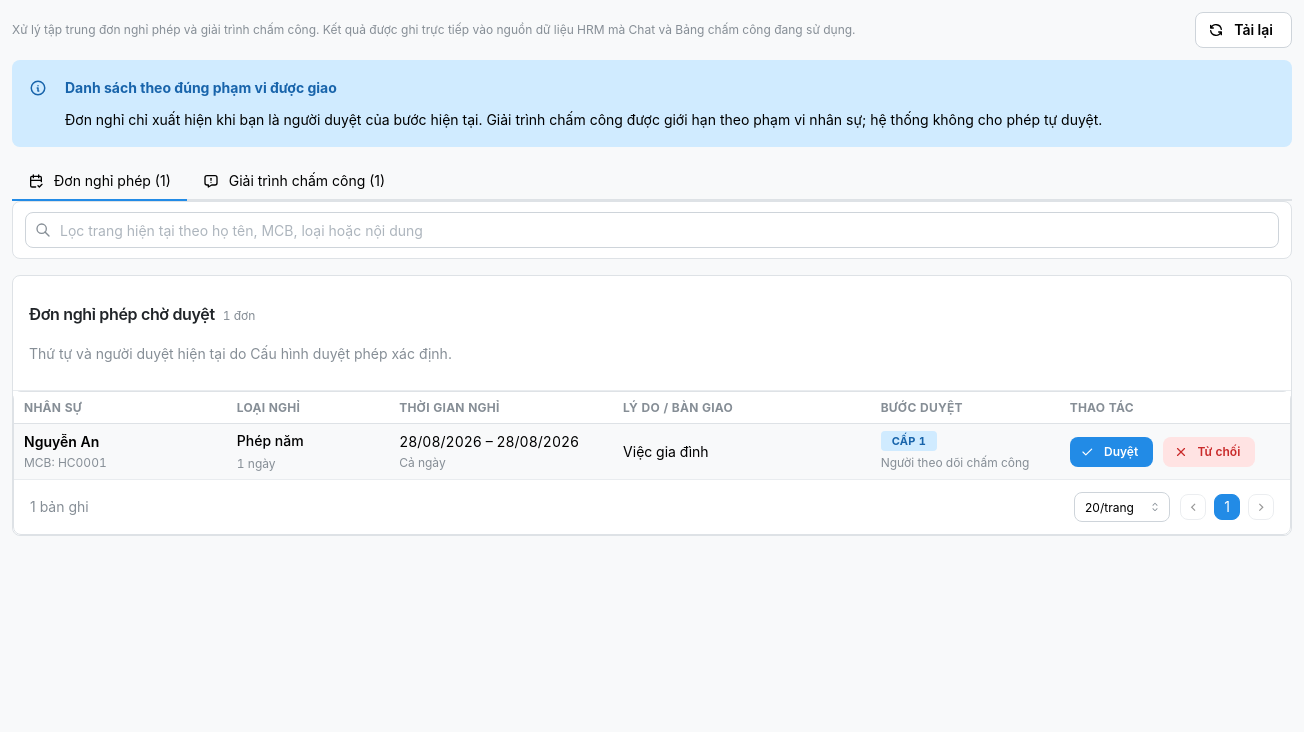
Test: ApprovalInboxPage › shows both canonical approval queues in one HRM screen
Check: the text "Nguyễn An" is shown, box [24, 433, 99, 450]
Check: the text "MCB: HC0001" is shown, box [24, 455, 107, 470]
Click the tab "Giải trình chấm công (1)" at (294, 182), box [187, 163, 401, 201]
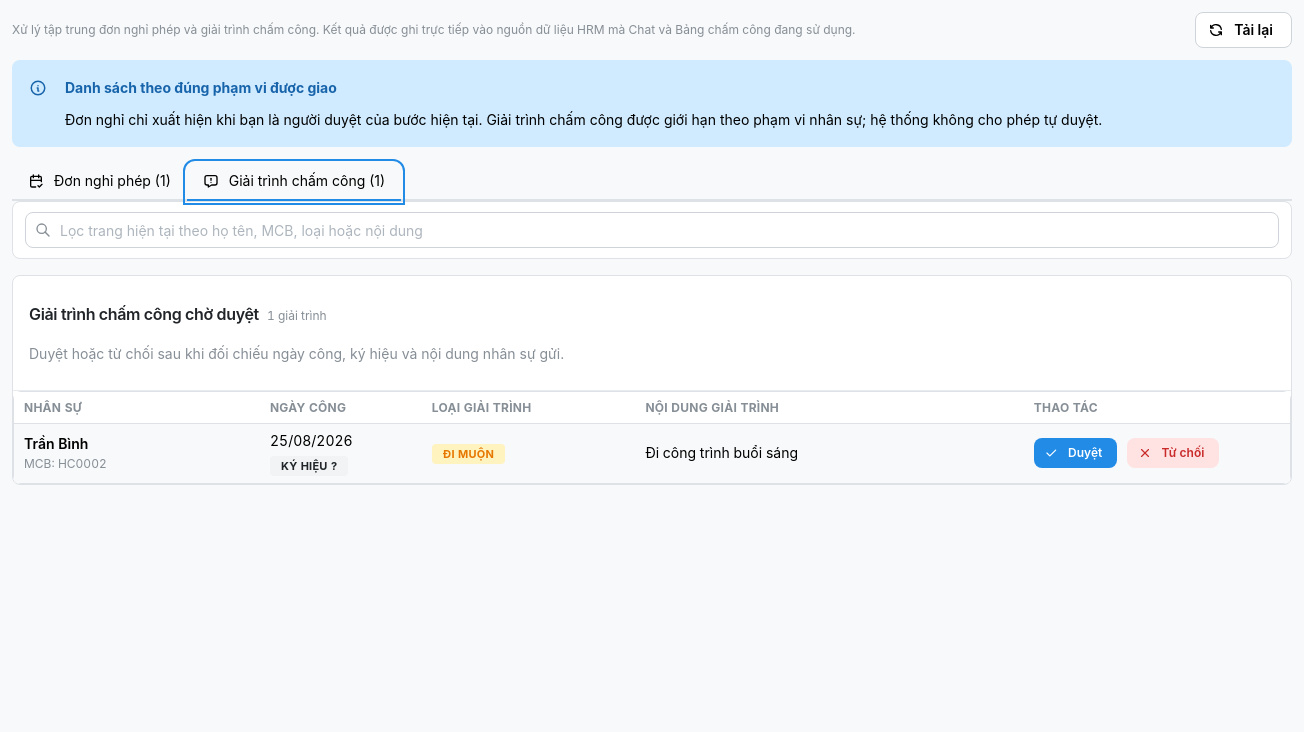
Check: the text "Trần Bình" is shown, box [24, 435, 88, 452]
Check: the text "Đi công trình buổi sáng" is shown, box [645, 444, 798, 461]
